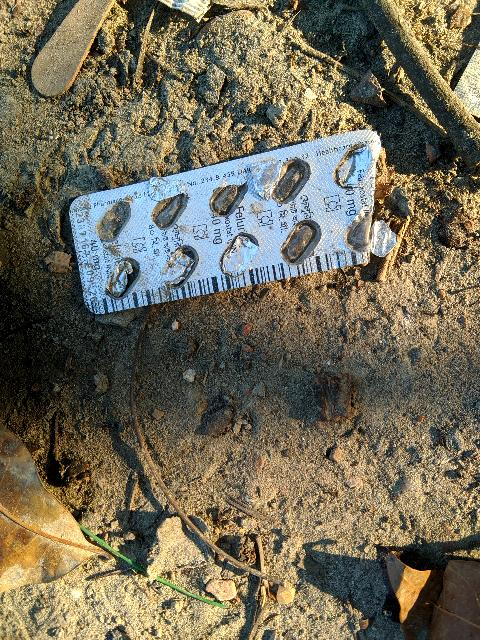medicine: (52, 119, 404, 316)
